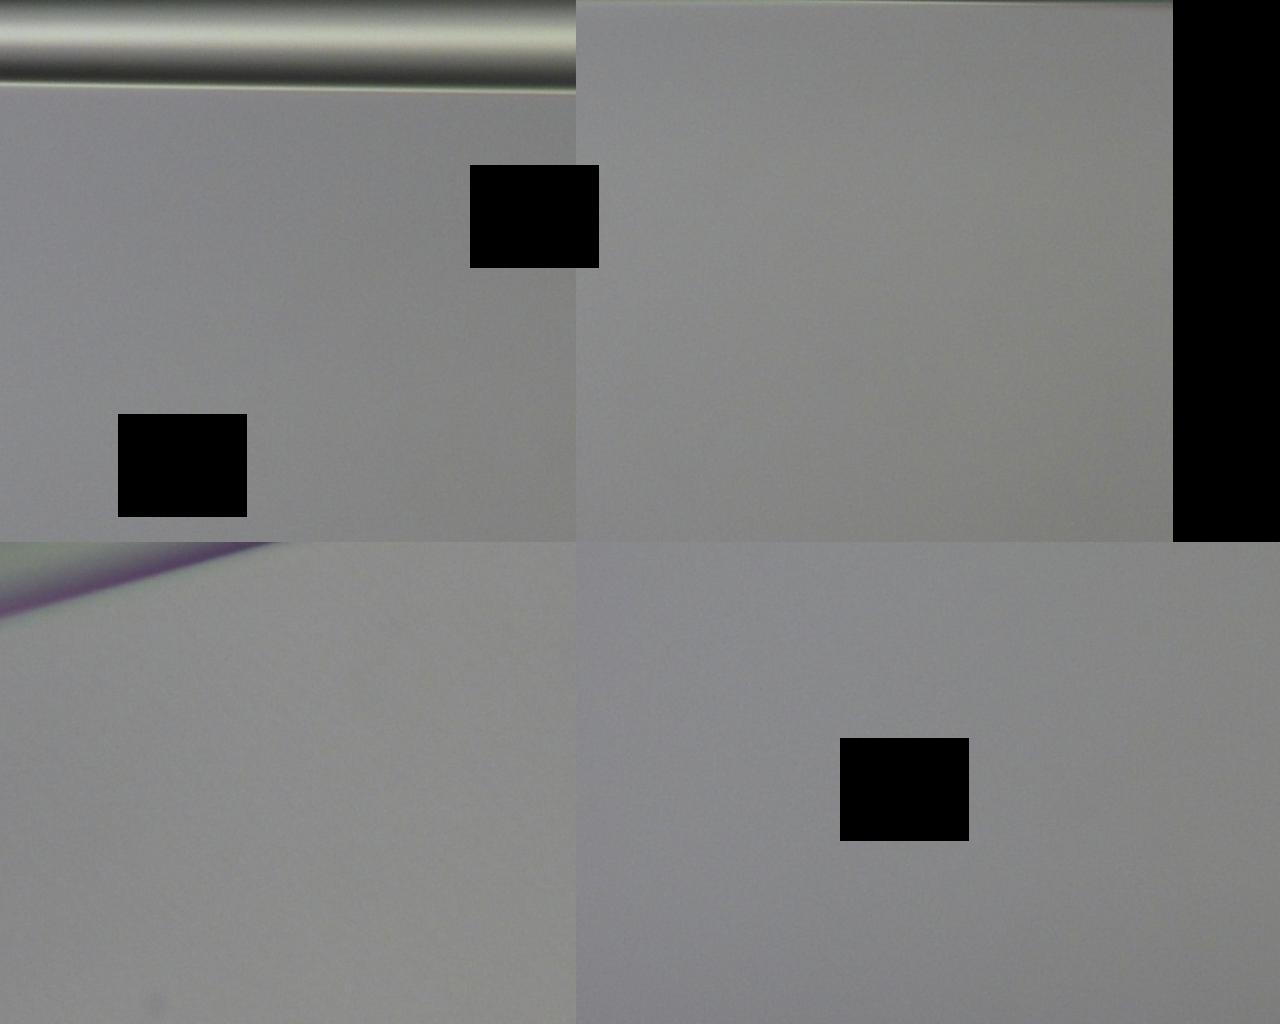fiber: (323, 460, 520, 1024), (335, 0, 463, 460), (908, 525, 1096, 694)
